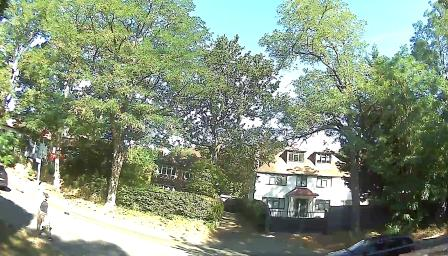Cars: (330, 232, 418, 256), (0, 164, 8, 191)
